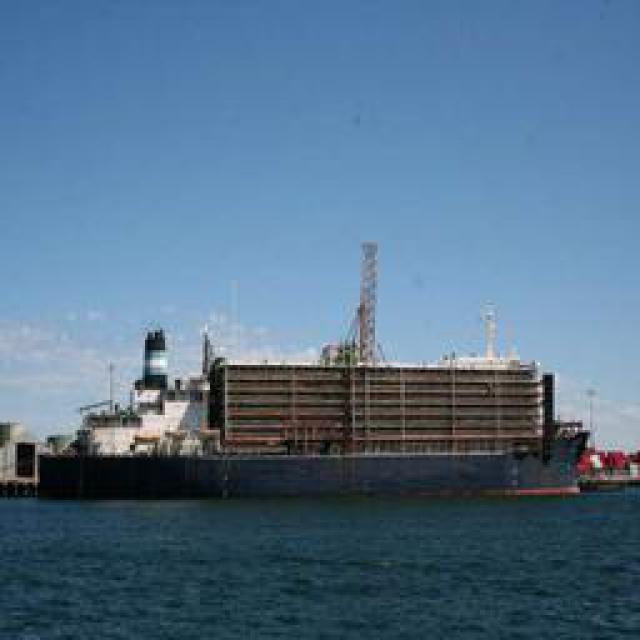Ship: (24, 331, 604, 496)
